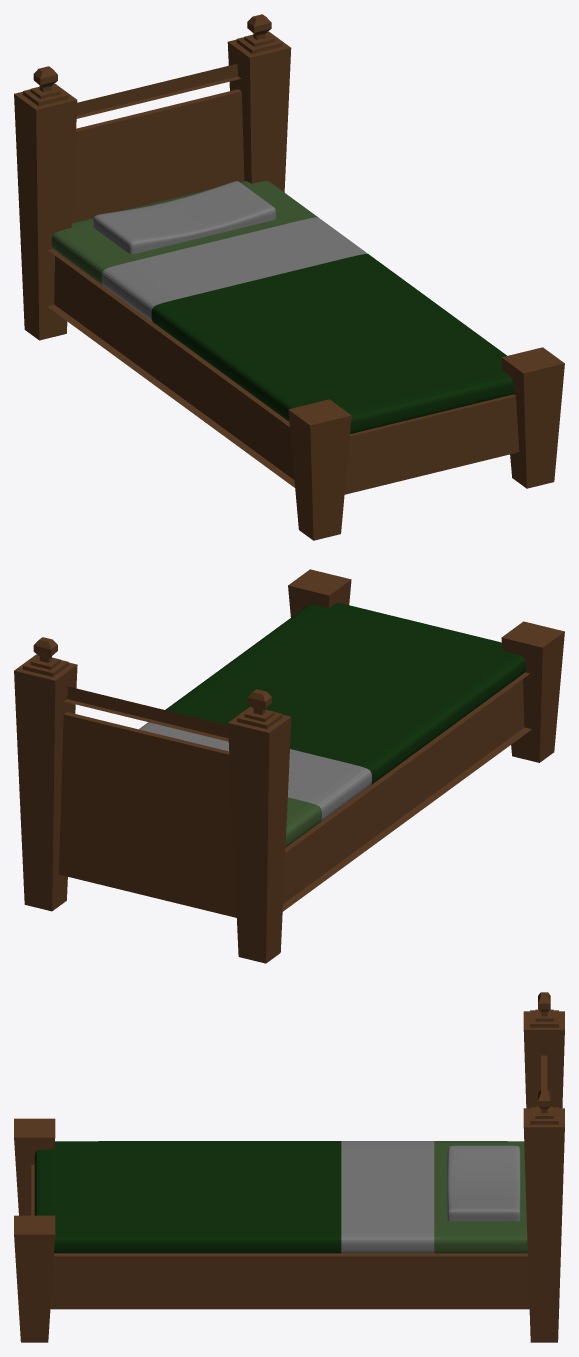
The model's file is Cama (1).fbx.
3 renders of one model, top to bottom at view 1: azimuth 30°, elevation 25°; view 2: azimuth 150°, elevation 25°; view 3: azimuth 270°, elevation 25°, orthographic. The views are drawn at different scales.
Parts seen in each view (by area): view 1: Cube.010, Plane.003, Plane.004; view 2: Cube.010, Plane.003; view 3: Plane.003, Cube.010, Plane.004.
Boxes of the visible parts, x1,y1,x2,y2 form: Cube.010: (14,14,564,540); Plane.003: (51,181,513,433); Plane.004: (93,181,275,254); Cube.010: (14,569,564,963); Plane.003: (139,602,526,847); Plane.003: (34,1141,527,1253); Cube.010: (14,992,564,1342); Plane.004: (447,1145,520,1221).
Bounding box in the file's own units: 637 × 627 × 1280.
